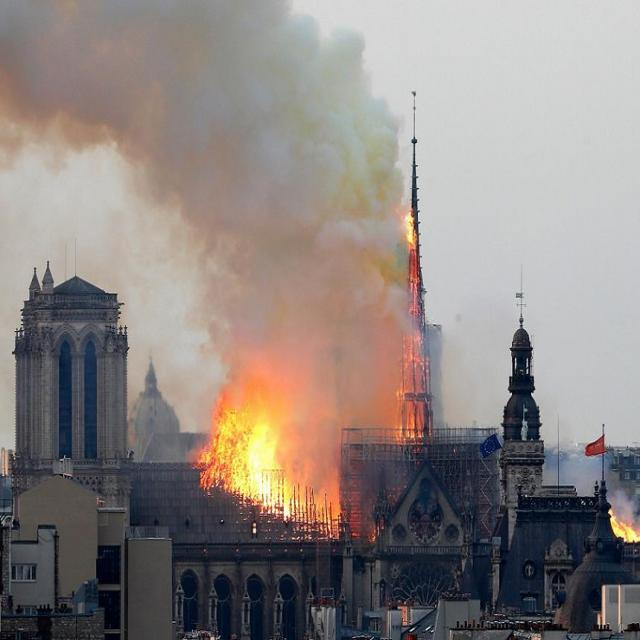Fire: (189, 398, 376, 536), (392, 204, 446, 436), (604, 500, 640, 546)
